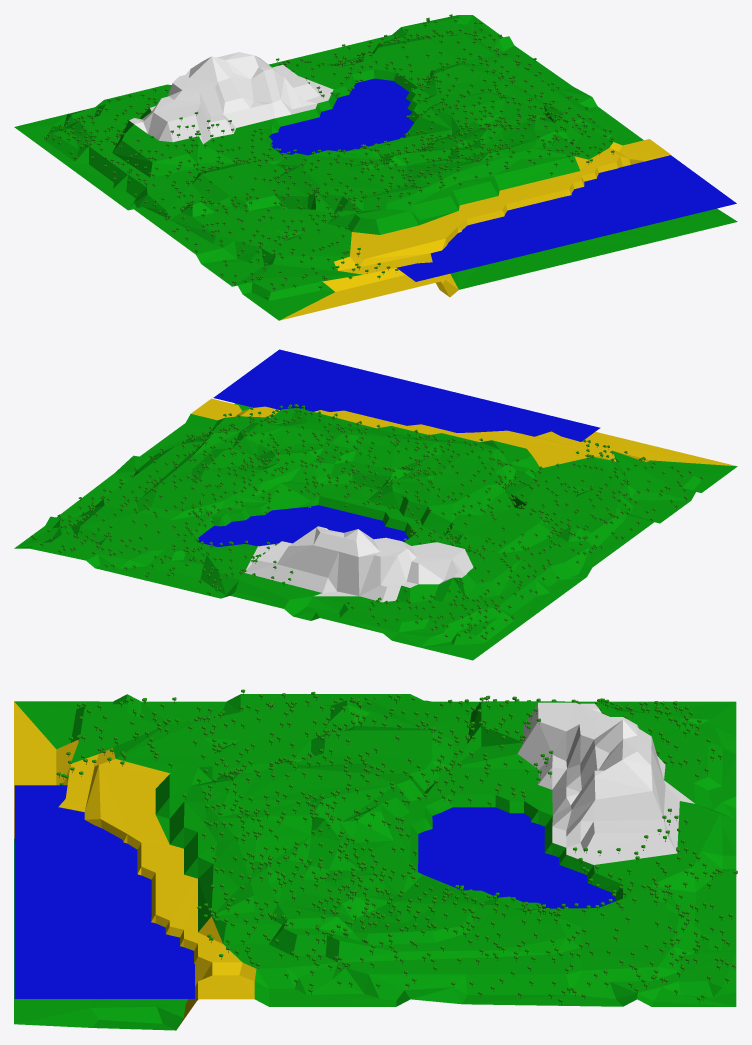
File: map4.glb
The picture shows the model from 3 angles, top to bottom: view 1: azimuth 30°, elevation 25°; view 2: azimuth 150°, elevation 25°; view 3: azimuth 270°, elevation 25°; orthographic projection. The views are drawn at different scales.
Parts seen in each view (by area): view 1: Plane, Plane.002, Plane.001; view 2: Plane, Plane.002, Plane.001; view 3: Plane, Plane.002, Plane.001.
Part boxes in pixels (<box>): Plane: <box>14,15,737,320</box>; Plane.002: <box>396,155,736,281</box>; Plane.001: <box>269,78,413,155</box>; Plane: <box>14,398,737,660</box>; Plane.002: <box>213,349,600,441</box>; Plane.001: <box>198,505,408,546</box>; Plane: <box>14,694,736,1030</box>; Plane.002: <box>14,785,194,998</box>; Plane.001: <box>418,807,615,908</box>.
Bounding box in the file's own units: 10000 × 1710 × 10022.
6 materials, 1 textured.
